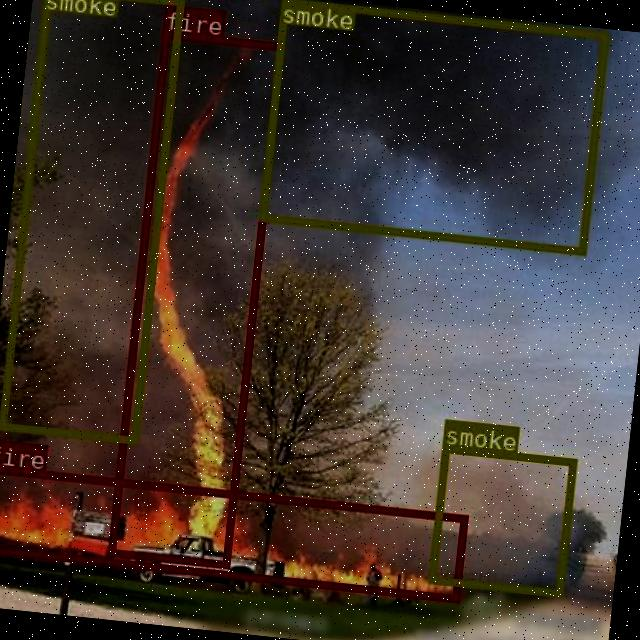fire: (105, 28, 282, 566), (0, 462, 466, 600)
smoke: (257, 0, 608, 253), (0, 0, 182, 441), (426, 444, 574, 594)
